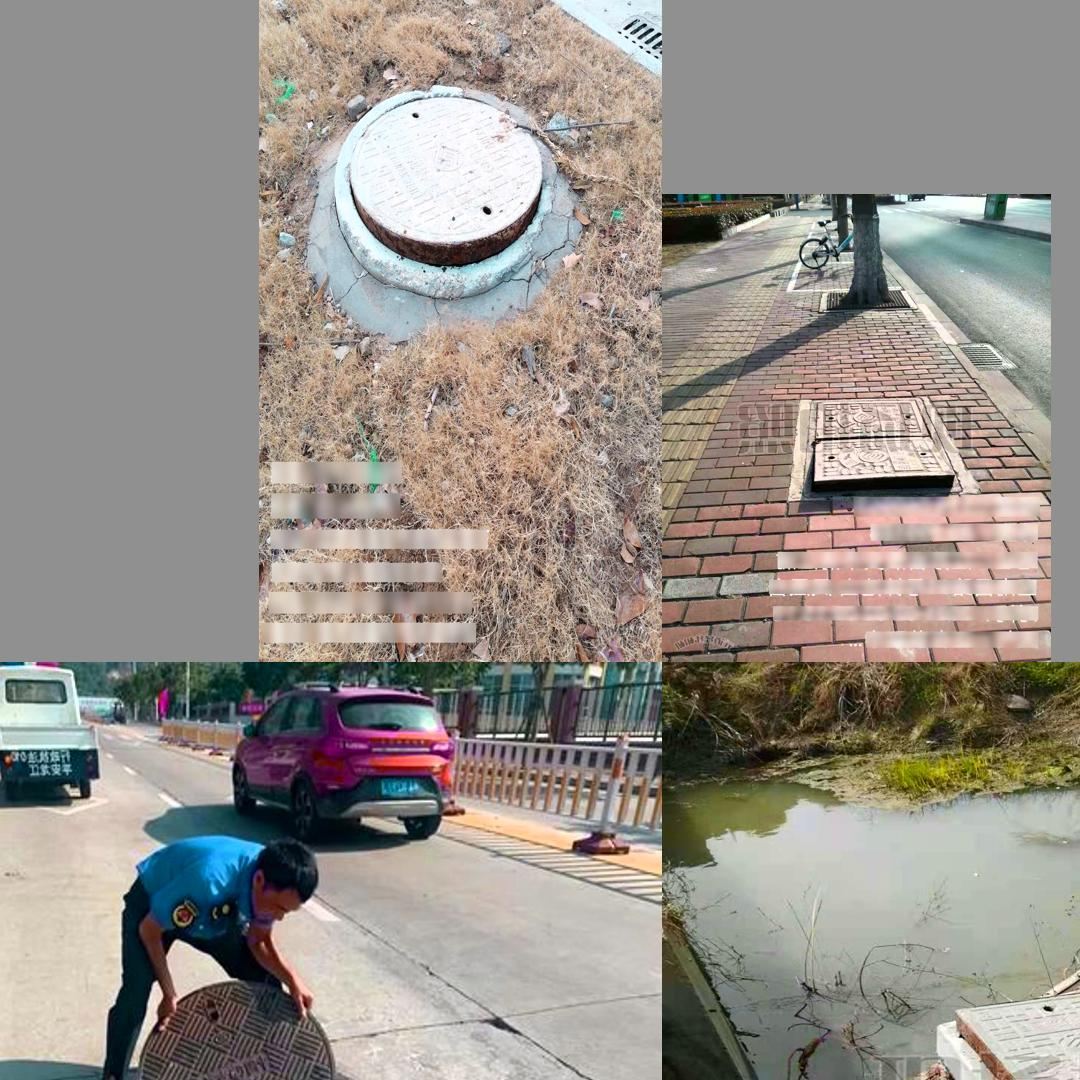uncovered: (334, 86, 554, 303), (124, 972, 391, 1080), (934, 941, 1080, 1080), (799, 398, 961, 501)
